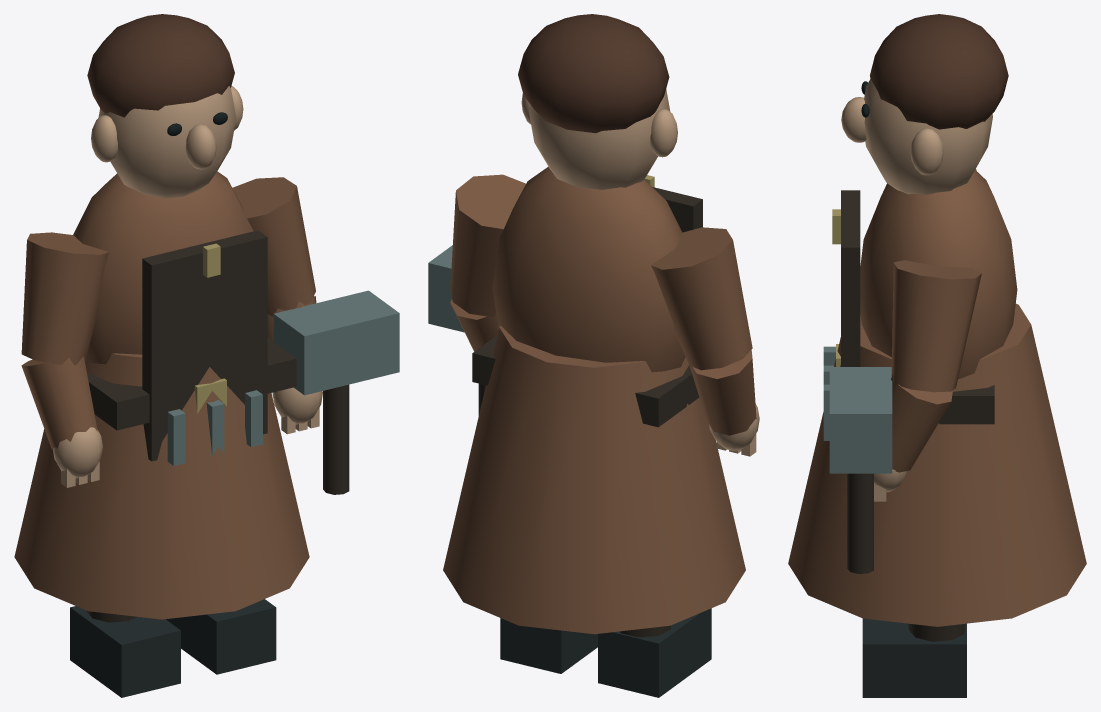
The model's file is smith.glb.
3 views of the same model, side by side, from view 1: azimuth 30°, elevation 25°; view 2: azimuth 150°, elevation 25°; view 3: azimuth 270°, elevation 25° (orthographic). The views are drawn at different scales.
Parts seen in each view (by area): view 1: body, head, armL, hammer, armR, legL, legR; view 2: body, head, armL, armR, legL, legR, hammer; view 3: body, head, armR, hammer, legR.
Boxes of the visible parts, bbox=[...] form: body: bbox=[14, 171, 309, 619]; head: bbox=[87, 14, 243, 198]; armL: bbox=[21, 232, 109, 487]; hammer: bbox=[273, 290, 399, 494]; armR: bbox=[232, 177, 322, 434]; legL: bbox=[70, 606, 180, 697]; legR: bbox=[166, 599, 276, 674]; body: bbox=[443, 166, 745, 634]; head: bbox=[518, 14, 677, 189]; armL: bbox=[651, 227, 759, 456]; armR: bbox=[450, 174, 525, 351]; legL: bbox=[598, 608, 711, 697]; legR: bbox=[500, 618, 597, 673]; hammer: bbox=[428, 245, 485, 415]; body: bbox=[788, 170, 1086, 626]; head: bbox=[841, 14, 1008, 194]; armR: bbox=[874, 260, 981, 501]; hammer: bbox=[829, 367, 892, 573]; legR: bbox=[862, 618, 966, 697].
Size of the model in its own units: 1.1 by 2.02 by 0.86.
